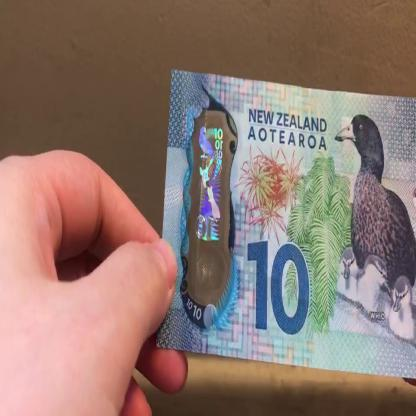10F: (195, 121, 227, 294)
